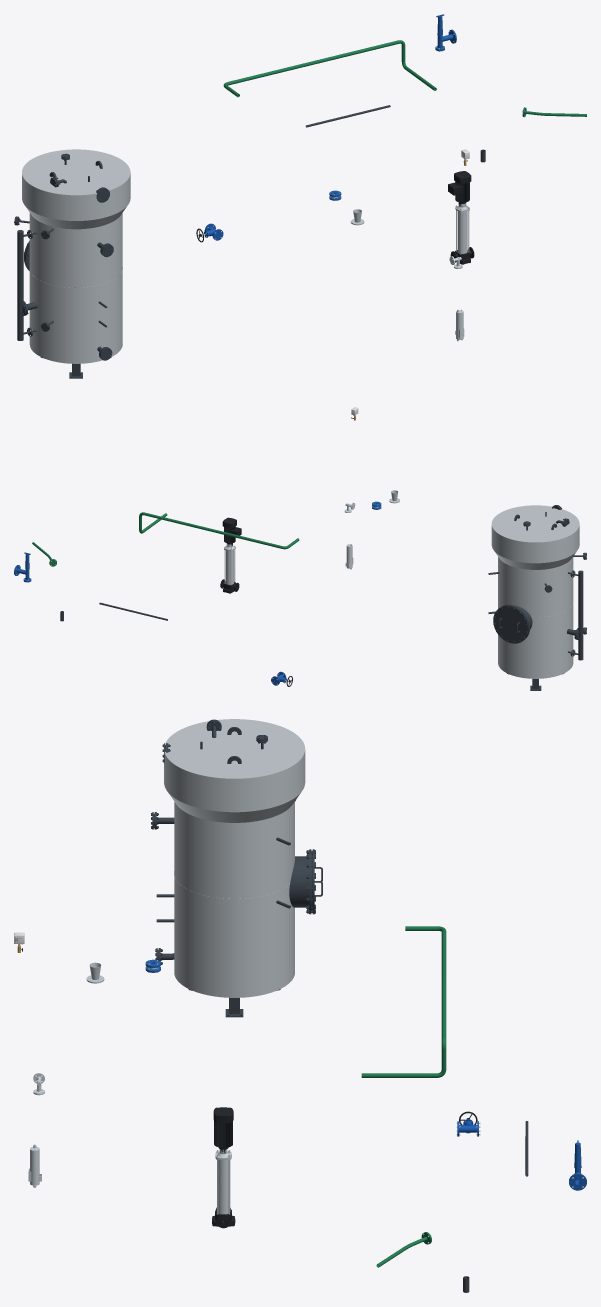
Rendered from s4000-1-BYz-LXmH.glb.
The picture shows the model from 3 angles, top to bottom: view 1: azimuth 30°, elevation 25°; view 2: azimuth 150°, elevation 25°; view 3: azimuth 270°, elevation 25°; orthographic projection. The views are drawn at different scales.
Parts seen in each view (by area): view 1: deaerator / shell, to_direct / green, deaerator / dark, pump_1 CAD solid 15; view 2: deaerator / shell, DA3 CAD 76, to_direct / green, deaerator / dark; view 3: deaerator / shell, to_direct / green, DA3 CAD 11, pump_1 CAD solid 15.
Boxes of the visible parts, box(x1,y1,x2,y2) form: deaerator / shell: box(22, 149, 130, 363); to_direct / green: box(223, 40, 436, 97); deaerator / dark: box(17, 230, 36, 340); pump_1 CAD solid 15: box(448, 171, 471, 203); deaerator / shell: box(491, 505, 579, 678); DA3 CAD 76: box(493, 605, 528, 643); to_direct / green: box(139, 512, 299, 549); deaerator / dark: box(568, 570, 583, 660); deaerator / shell: box(164, 719, 305, 997); to_direct / green: box(361, 926, 446, 1077); DA3 CAD 11: box(289, 856, 309, 907); pump_1 CAD solid 15: box(213, 1107, 233, 1148).
Size of the model in its own units: 8.51 by 2.6 by 5.19.
